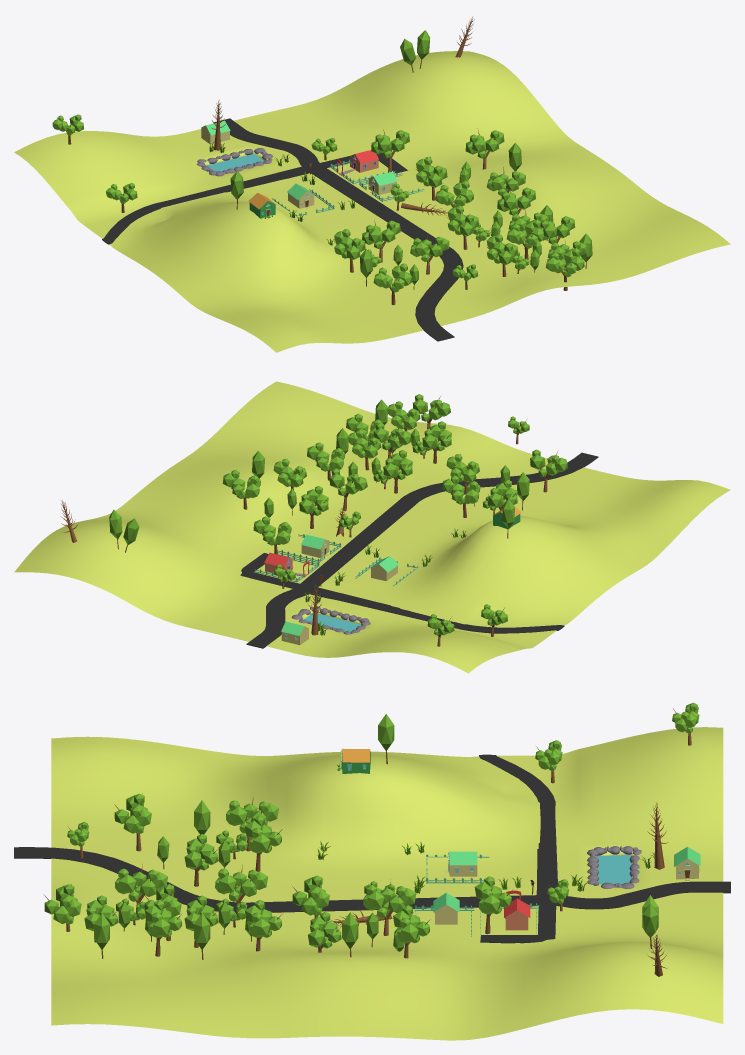
File: town.glb
3 renders of one model, top to bottom at view 1: azimuth 30°, elevation 25°; view 2: azimuth 150°, elevation 25°; view 3: azimuth 270°, elevation 25°, orthographic. The views are drawn at different scales.
Parts seen in each view (by area): view 1: Landscape, Road, Rock, Tree Leaf.008, Tree Leaf.018, Tree Leaf, Tree Leaf.011, Tree Leaf.024, Tree Leaf.012, Tree Leaf.004, Tree Leaf.007, Tree Leaf.017 (+6 smaller); view 2: Landscape, Road, Tree Leaf.004, Tree Leaf.024, Tree Leaf, Tree Leaf.014, Tree Leaf.008, Tree Leaf.021, Rock, Tree Leaf.012, Tree Leaf.022, Tree Leaf.017 (+10 smaller); view 3: Landscape, Road, Tree Leaf.022, Tree Leaf.012, Tree Leaf.017, Rock, Tree Leaf.008, Tree Leaf.007, Tree Leaf, Tree Leaf.004, Tree Leaf.015, Tree Leaf.018 (+17 smaller).
Boxes of the visible parts, bbox=[...] form: Landscape: bbox=[14, 51, 730, 352]; Road: bbox=[102, 118, 463, 341]; Rock: bbox=[196, 148, 273, 176]; Tree Leaf.008: bbox=[373, 263, 412, 305]; Tree Leaf.018: bbox=[545, 248, 584, 290]; Tree Leaf: bbox=[371, 129, 409, 172]; Tree Leaf.011: bbox=[506, 219, 544, 258]; Tree Leaf.024: bbox=[465, 128, 504, 169]; Tree Leaf.012: bbox=[447, 205, 479, 249]; Tree Leaf.004: bbox=[362, 220, 400, 262]; Tree Leaf.007: bbox=[333, 229, 365, 272]; Tree Leaf.017: bbox=[487, 234, 518, 276]; Landscape: bbox=[14, 381, 730, 673]; Road: bbox=[240, 452, 598, 648]; Tree Leaf.004: bbox=[442, 475, 480, 517]; Tree Leaf.024: bbox=[222, 469, 260, 509]; Tree Leaf: bbox=[253, 516, 291, 554]; Tree Leaf.014: bbox=[307, 442, 344, 480]; Tree Leaf.008: bbox=[530, 449, 568, 492]; Tree Leaf.021: bbox=[329, 468, 367, 510]; Rock: bbox=[291, 606, 370, 634]; Tree Leaf.012: bbox=[383, 450, 412, 493]; Tree Leaf.022: bbox=[299, 486, 328, 528]; Tree Leaf.017: bbox=[422, 421, 451, 463]; Landscape: bbox=[51, 727, 723, 1040]; Road: bbox=[14, 754, 730, 943]; Tree Leaf.022: bbox=[363, 879, 416, 935]; Tree Leaf.012: bbox=[215, 864, 268, 920]; Tree Leaf.017: bbox=[115, 864, 167, 913]; Rock: bbox=[587, 846, 641, 889]; Tree Leaf.008: bbox=[114, 793, 151, 851]; Tree Leaf.007: bbox=[226, 797, 278, 851]; Tree Leaf: bbox=[474, 876, 512, 934]; Tree Leaf.004: bbox=[245, 815, 282, 871]; Tree Leaf.015: bbox=[144, 899, 182, 956]; Tree Leaf.018: bbox=[43, 884, 81, 931].
Size of the model in its own units: 70.18 by 12.52 by 74.69.
